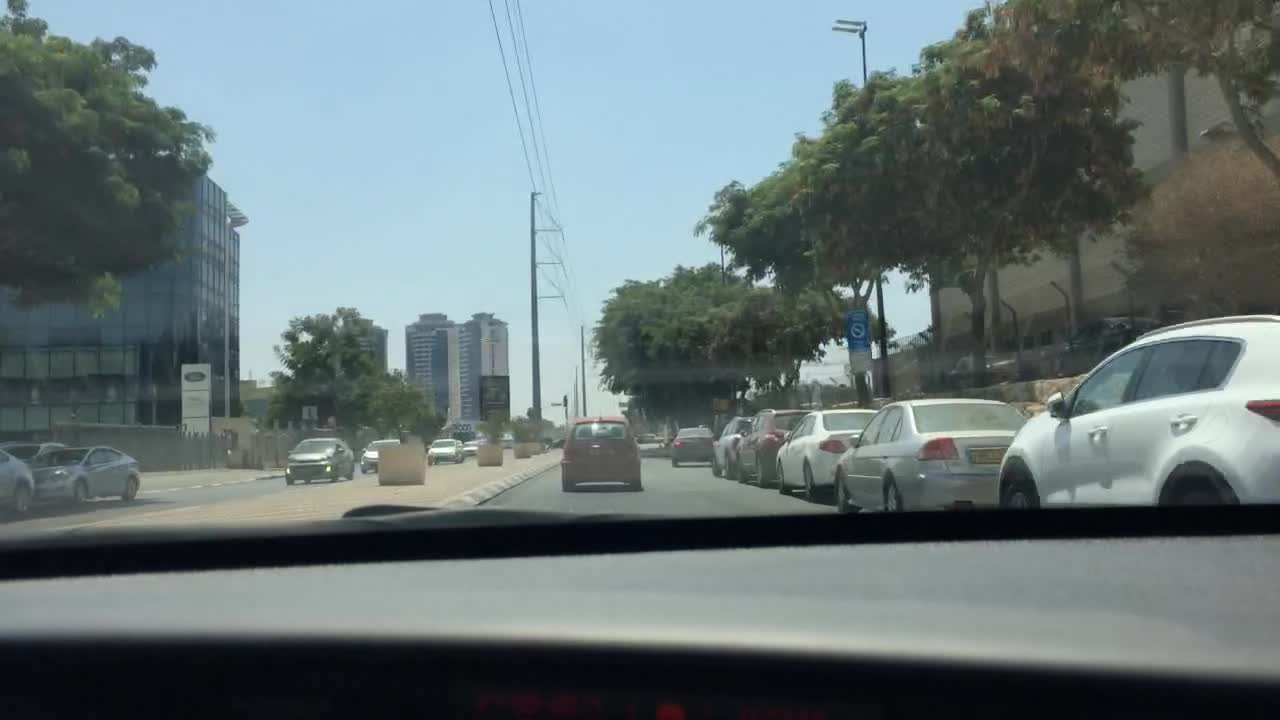car: (996, 311, 1277, 510), (837, 395, 1029, 513), (787, 405, 898, 491), (735, 405, 823, 485), (31, 444, 144, 506), (560, 416, 644, 491), (284, 435, 355, 482), (710, 413, 757, 475), (2, 448, 36, 515), (667, 425, 718, 468), (362, 437, 403, 474), (1, 437, 69, 455), (428, 437, 466, 466), (635, 430, 663, 455), (467, 440, 483, 452)
traffic sign: (843, 307, 865, 344), (849, 349, 874, 371)
